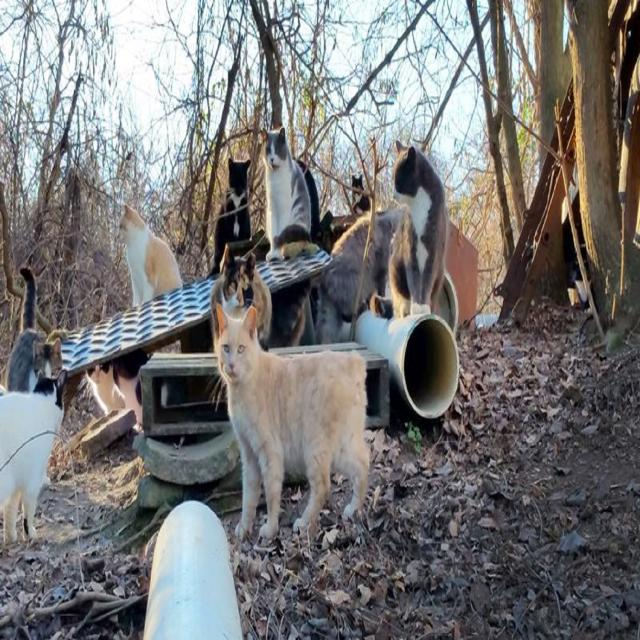cat: (216, 308, 369, 538), (0, 371, 68, 544), (389, 142, 448, 319), (6, 266, 61, 392), (316, 214, 370, 342), (262, 128, 311, 260), (120, 204, 182, 306), (211, 246, 272, 345), (210, 158, 251, 274), (359, 210, 401, 314), (296, 159, 320, 242), (351, 174, 370, 216)
